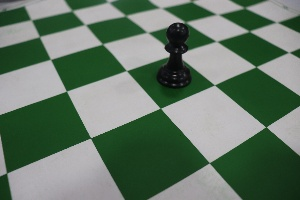black_pawn: (158, 13, 196, 94)
